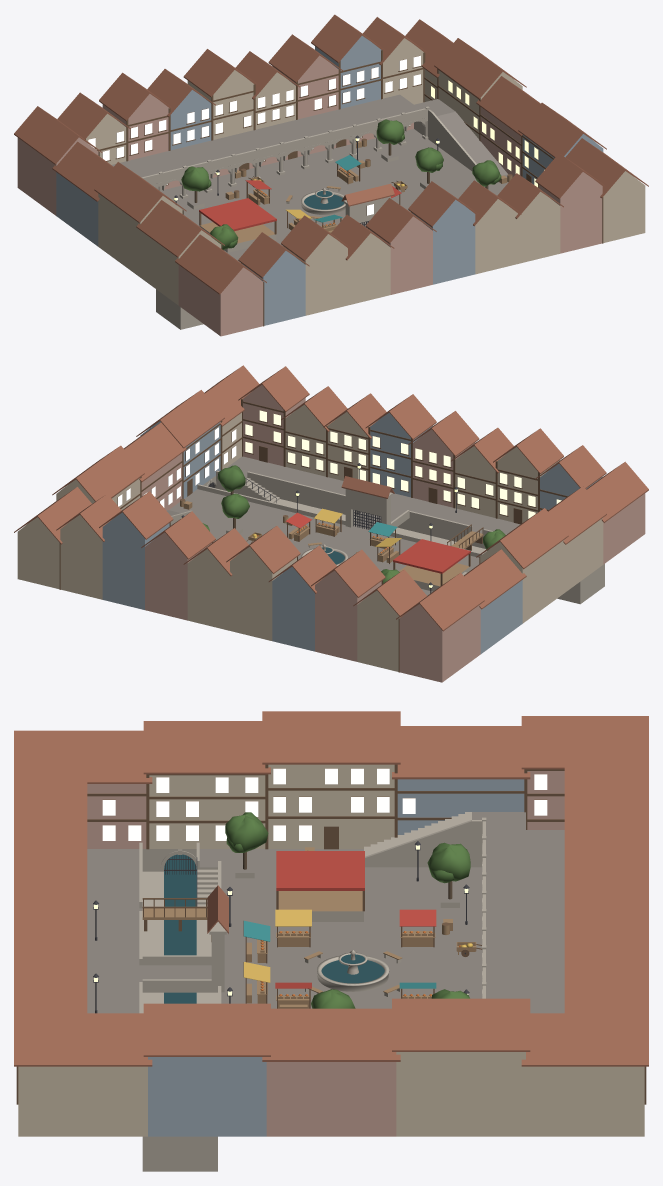
The model's file is market.glb.
3 views of the same model, one above another, from view 1: azimuth 30°, elevation 25°; view 2: azimuth 150°, elevation 25°; view 3: azimuth 270°, elevation 25° (orthographic). The views are drawn at different scales.
Visible parts, largest first — view 1: Roofs, Market_Plaster, Market_Cobble, Market_PlasterRose, Market_PlasterBlue, Market_Stone, Market_Timber, Market_WindowGlow, Foliage, Market_ClothRed, Market_Wood, Water; view 2: Roofs, Market_Plaster, Market_PlasterRose, Market_PlasterBlue, Market_Cobble, Market_Stone, Market_Timber, Market_WindowGlow, Market_Wood, Market_ClothRed, Foliage; view 3: Roofs, Market_Cobble, Market_Plaster, Market_Stone, Market_PlasterRose, Market_PlasterBlue, Market_Timber, Market_WindowGlow, Market_Wood, Market_ClothRed, Water, Foliage (+3 smaller).
Boxes of the visible parts, x1,y1,x2,y2 form: Roofs: (14, 14, 648, 294); Market_Plaster: (86, 38, 645, 315); Market_Cobble: (111, 94, 508, 262); Market_PlasterRose: (17, 55, 602, 336); Market_PlasterBlue: (56, 36, 603, 325); Market_Stone: (141, 106, 476, 329); Market_Timber: (85, 50, 603, 326); Market_WindowGlow: (88, 55, 544, 215); Foliage: (181, 119, 501, 249); Market_ClothRed: (199, 180, 401, 231); Market_Wood: (200, 140, 512, 243); Water: (304, 191, 344, 209); Roofs: (14, 365, 648, 631); Market_Plaster: (17, 404, 603, 671); Market_PlasterRose: (141, 385, 645, 682); Market_PlasterBlue: (102, 412, 602, 653); Market_Cobble: (167, 456, 520, 595); Market_Stone: (170, 470, 604, 604); Market_Timber: (59, 399, 567, 672); Market_WindowGlow: (118, 410, 561, 518); Market_Wood: (180, 500, 483, 586); Market_ClothRed: (285, 512, 470, 573); Foliage: (202, 465, 505, 583); Roofs: (14, 711, 648, 1066); Market_Cobble: (87, 812, 564, 1013); Market_Plaster: (18, 764, 644, 1136); Market_Stone: (139, 812, 486, 1171); Market_PlasterRose: (87, 771, 564, 1136); Market_PlasterBlue: (148, 779, 524, 1136); Market_Timber: (16, 764, 646, 1104); Market_WindowGlow: (102, 768, 547, 840); Market_Wood: (142, 847, 452, 1008); Market_ClothRed: (275, 851, 436, 988); Water: (164, 854, 384, 1003); Foliage: (225, 812, 470, 1008).
Size of the model in its own units: 70.8 by 18.55 by 58.8.
